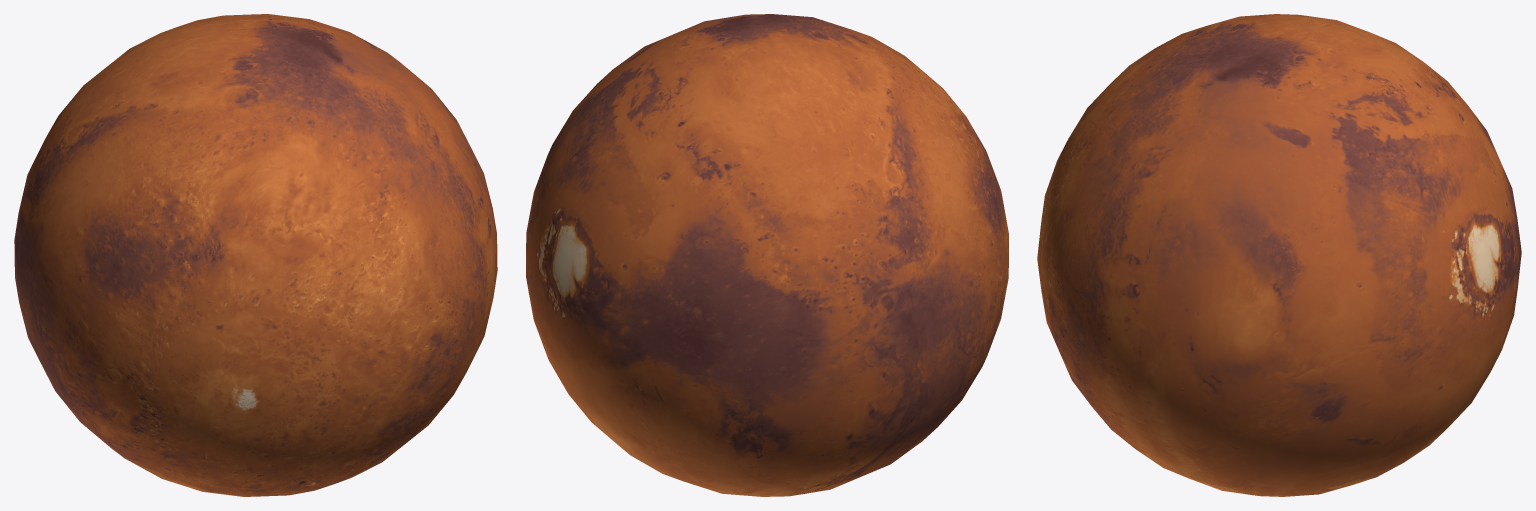
Rendered from marsy.glb.
The picture shows the model from 3 angles, left to right: view 1: azimuth 30°, elevation 25°; view 2: azimuth 150°, elevation 25°; view 3: azimuth 270°, elevation 25°; orthographic projection.
Visible parts, largest first — view 1: Atmosphere; view 2: Atmosphere; view 3: Atmosphere.
Boxes of the visible parts, x1,y1,x2,y2 form: Atmosphere: (14,14,497,496); Atmosphere: (526,14,1008,496); Atmosphere: (1037,14,1521,496).
Bounding box in the file's own units: 2.25 × 2.25 × 2.26.
Materials: 1 (1 with a texture image).
